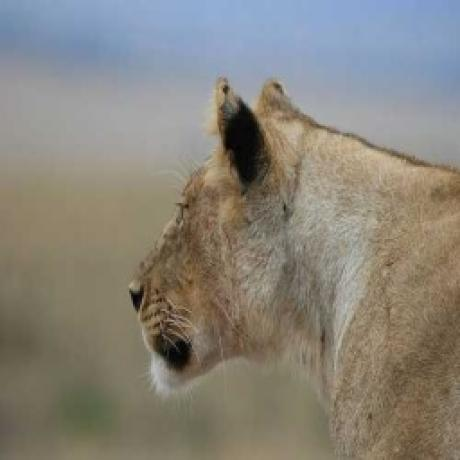Lion: (126, 70, 460, 460)
